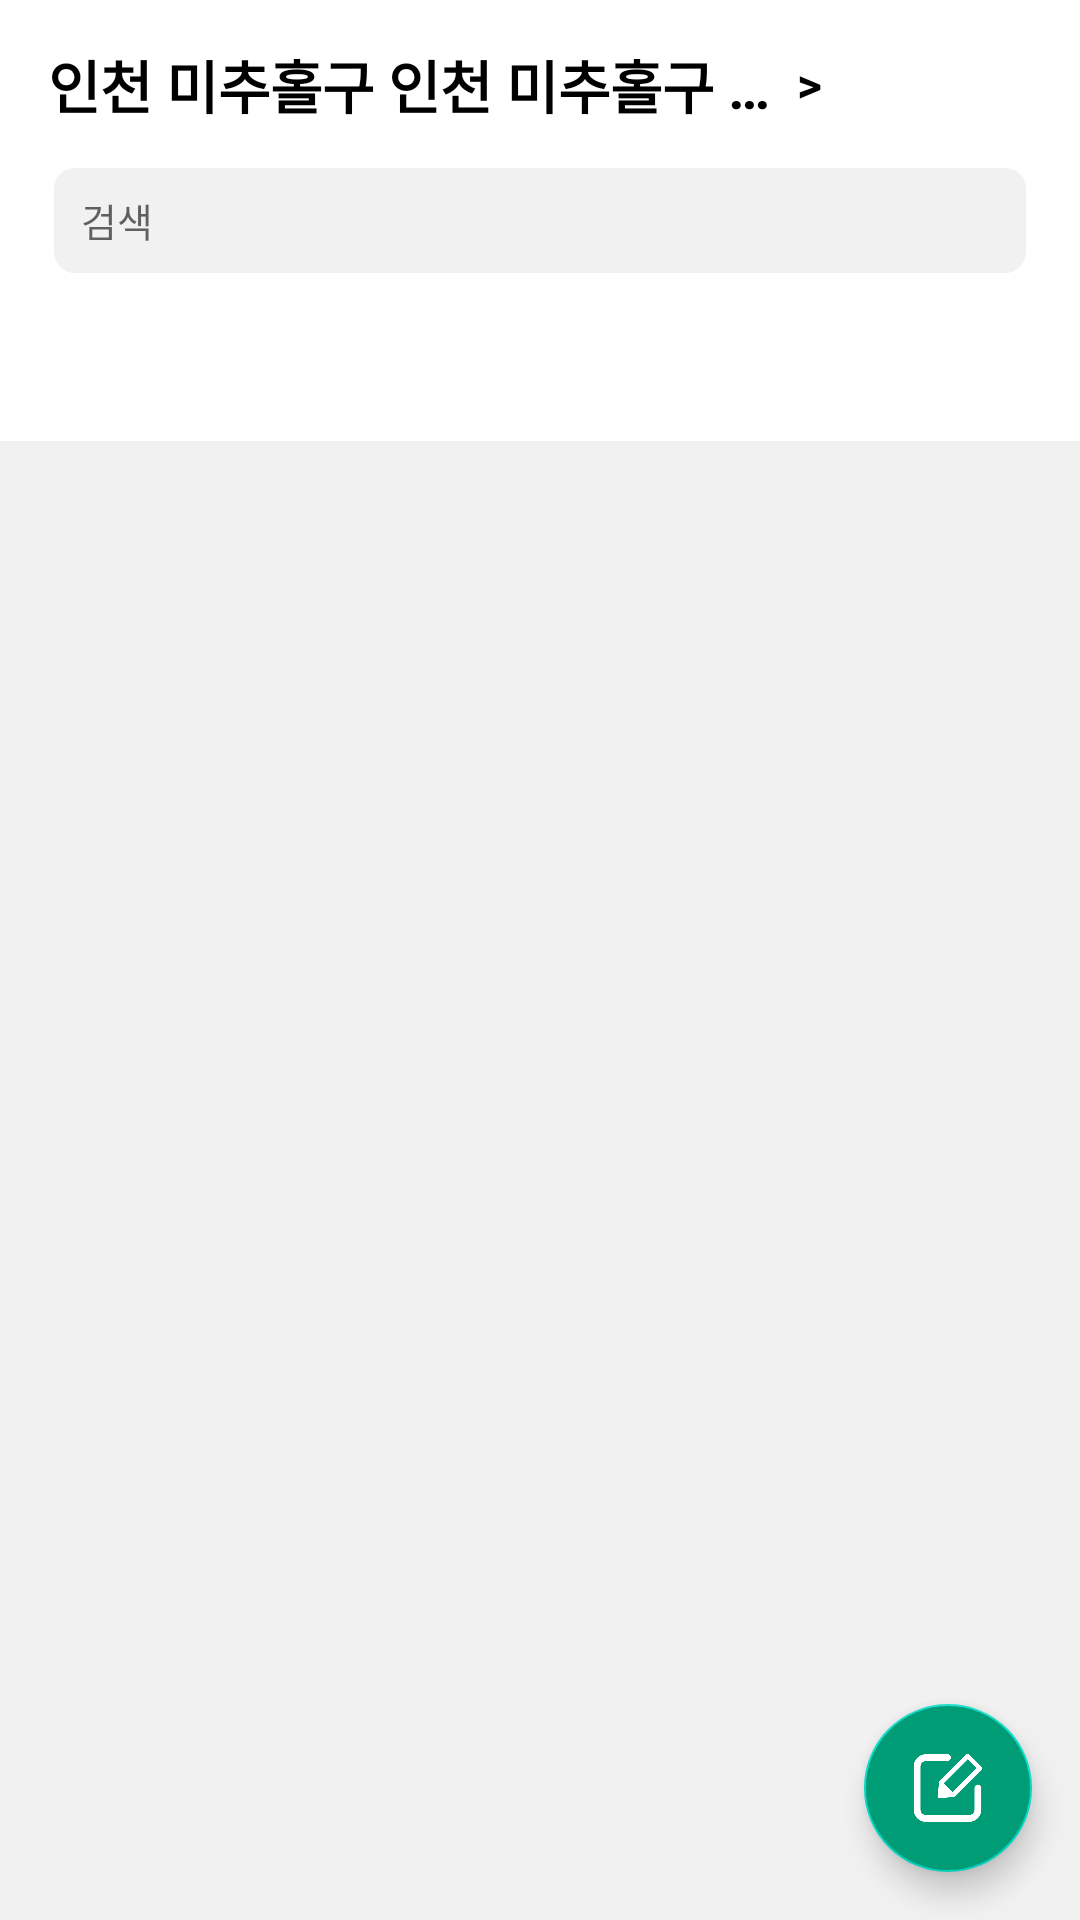

Screen size 1080w x 1920h. Icon name, then its center in pixels as [x,y]:
writing: [948,1788]
